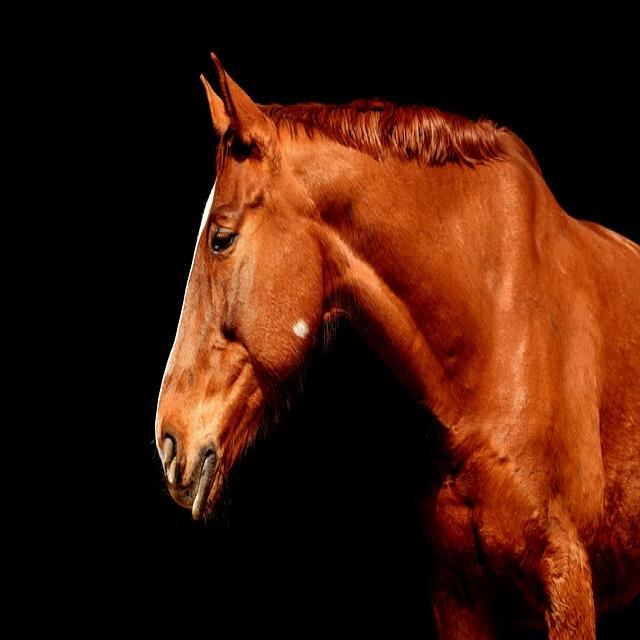Herbivorous: (152, 51, 640, 640)
